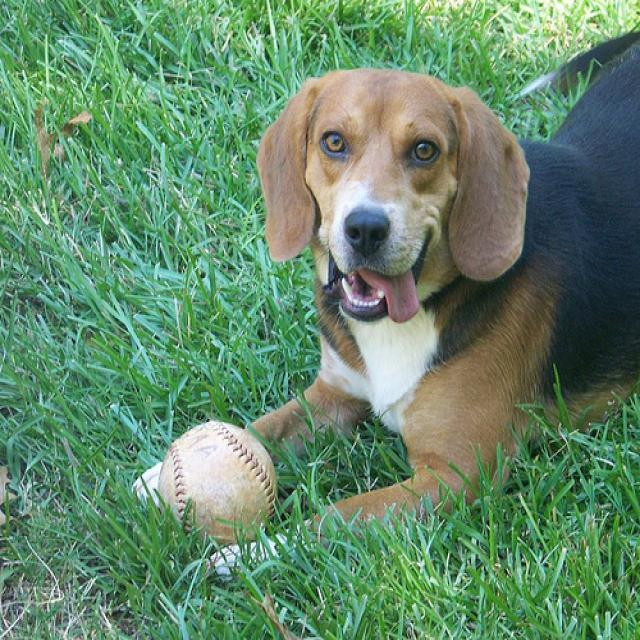dog-beagle: (187, 4, 637, 582)
